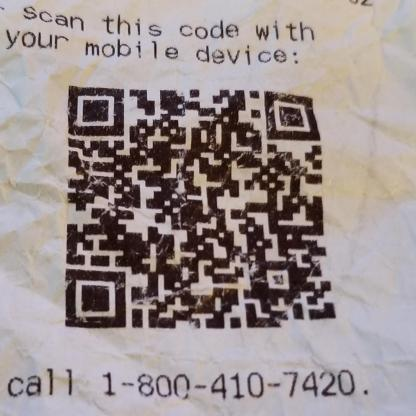qr: (57, 75, 341, 333)
